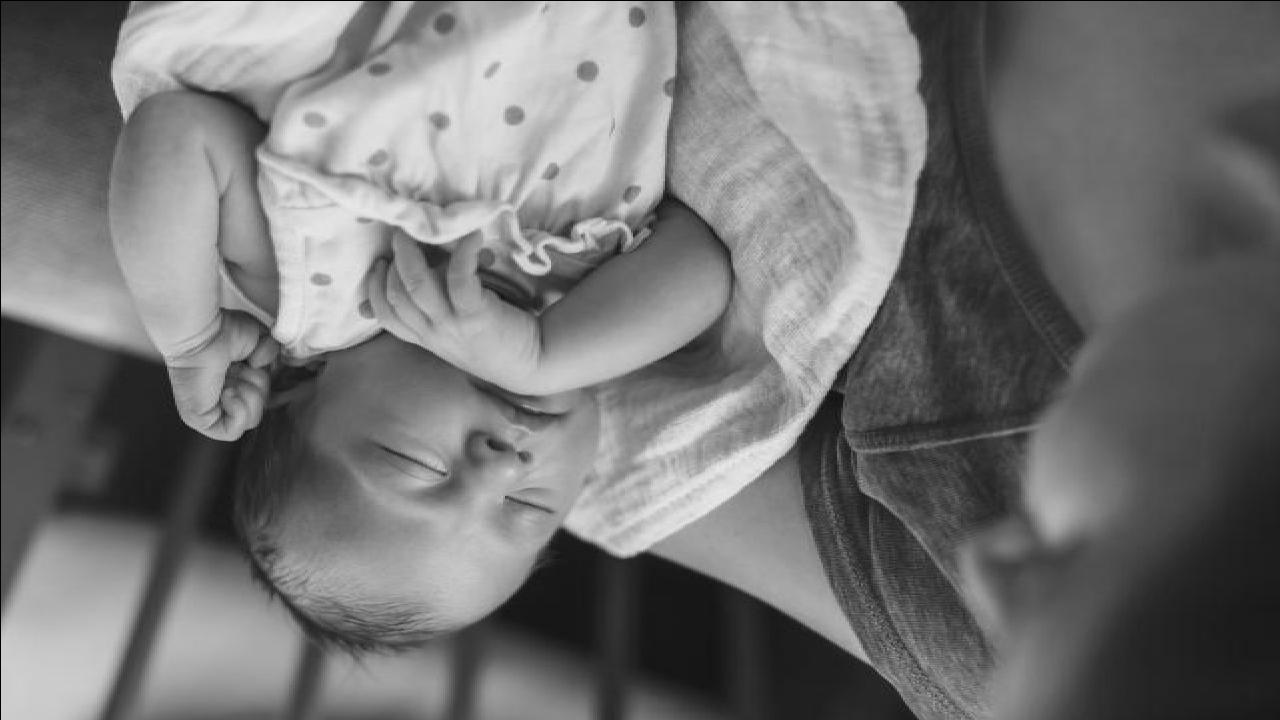hand: (353, 226, 538, 390), (162, 312, 280, 444)
